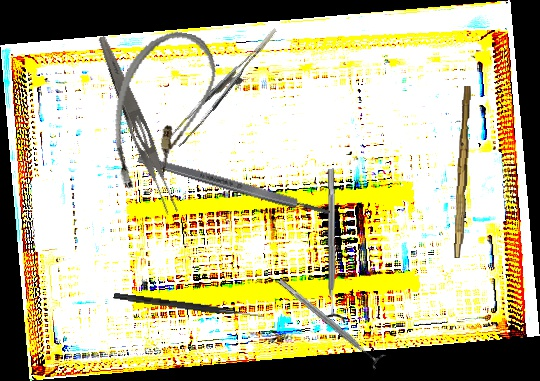Cannula: (99, 22, 225, 202)
Dressing Forceps: (89, 33, 183, 218)
Fixation Ring: (272, 272, 388, 371), (319, 168, 346, 324)
Hook Surgical: (113, 292, 265, 320)
Scalpel Handle: (136, 152, 332, 219), (454, 85, 472, 259)
Tissue Forceps: (160, 28, 294, 147)
